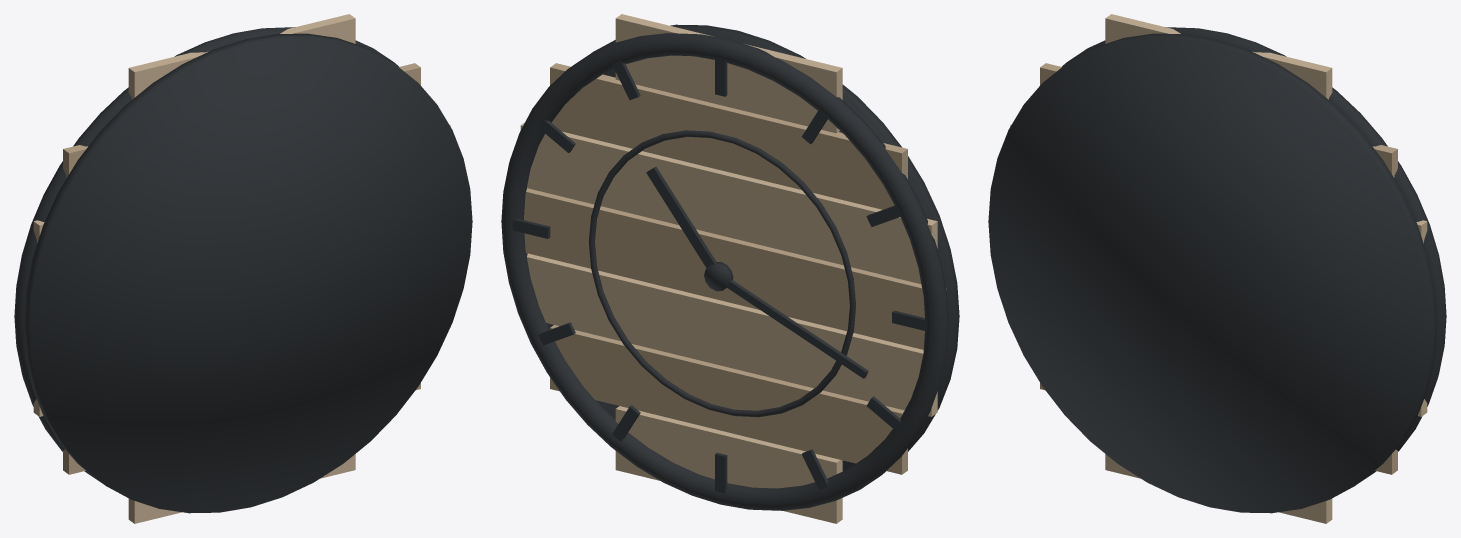
Rendered from Dining_Clock.glb.
The picture shows the model from 3 angles, left to right: view 1: azimuth 30°, elevation 25°; view 2: azimuth 150°, elevation 25°; view 3: azimuth 330°, elevation 25°; orthographic projection.
Visible parts, largest first — view 1: root; view 2: root; view 3: root.
Boxes of the visible parts, x1,y1,x2,y2 form: root: (14, 14, 472, 523); root: (501, 14, 959, 523); root: (988, 14, 1446, 523).
Size of the model in its own units: 0.7163 by 0.7163 by 0.061.
